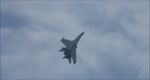maybay_muctieu: (59, 30, 83, 65)
